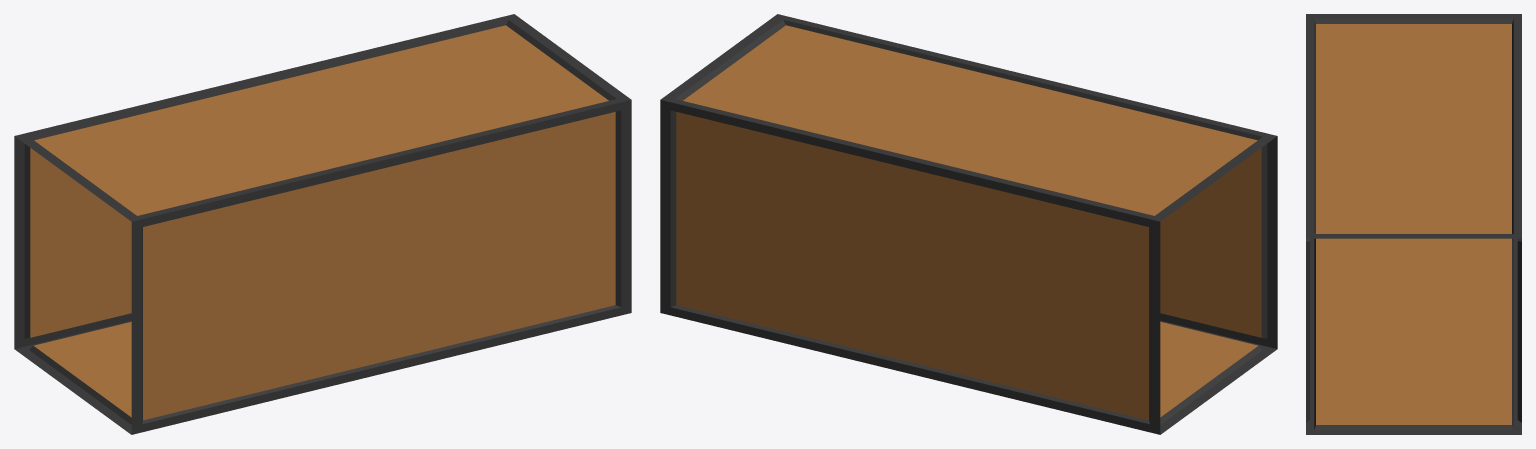
The model's file is slot_spinner.fbx.
3 views of the same model, side by side, from view 1: azimuth 30°, elevation 25°; view 2: azimuth 150°, elevation 25°; view 3: azimuth 270°, elevation 25° (orthographic). The views are drawn at different scales.
Parts seen in each view (by area): view 1: spinbox; view 2: spinbox; view 3: spinbox.
Boxes of the visible parts, left/top/right/bottom form: spinbox: left=14, top=14, right=631, bottom=434; spinbox: left=660, top=14, right=1277, bottom=434; spinbox: left=1306, top=14, right=1521, bottom=434.
Bounding box in the file's own units: 274 × 111 × 111.
